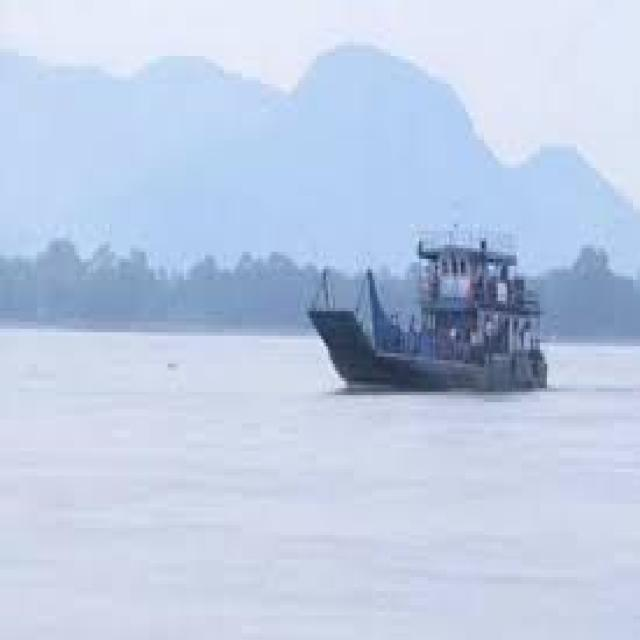fishing boat: (283, 227, 543, 393)
